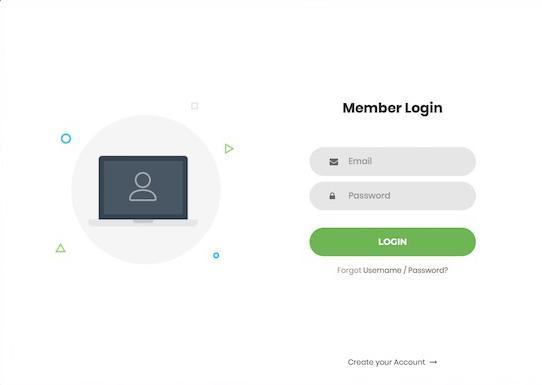button: (310, 228, 477, 258)
icon: (327, 156, 341, 168), (327, 190, 339, 203)
input: (310, 182, 478, 212), (310, 149, 478, 178)
label: (340, 100, 446, 118), (335, 266, 451, 275), (346, 358, 430, 368)
